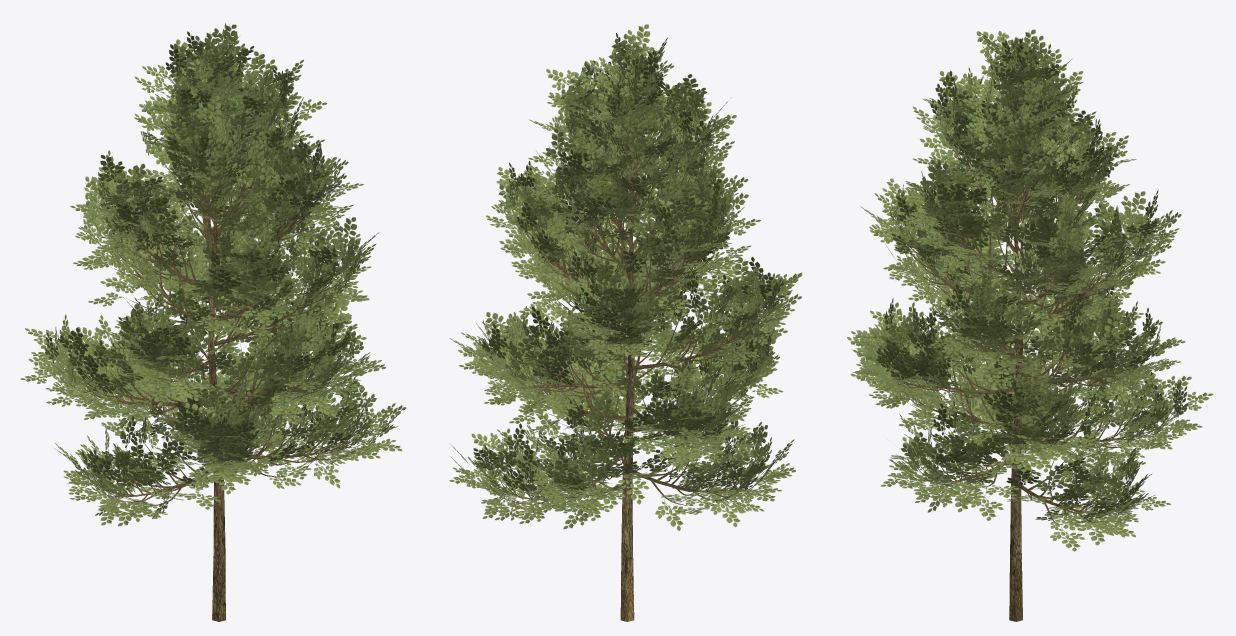
The model's file is tree2.glb.
3 renders of one model, left to right at view 1: azimuth 30°, elevation 25°; view 2: azimuth 150°, elevation 25°; view 3: azimuth 270°, elevation 25°, orthographic. The views are drawn at different scales.
Parts seen in each view (by area): view 1: Low Poly Tree 1 Leaves, Low Poly Tree 1 Trunk; view 2: Low Poly Tree 1 Leaves, Low Poly Tree 1 Trunk; view 3: Low Poly Tree 1 Leaves, Low Poly Tree 1 Trunk.
Boxes of the visible parts, x1,y1,x2,y2 form: Low Poly Tree 1 Leaves: [20, 23, 406, 526]; Low Poly Tree 1 Trunk: [58, 66, 373, 621]; Low Poly Tree 1 Leaves: [449, 24, 802, 530]; Low Poly Tree 1 Trunk: [478, 63, 772, 621]; Low Poly Tree 1 Leaves: [847, 29, 1213, 551]; Low Poly Tree 1 Trunk: [886, 61, 1175, 621].
Bounding box in the file's own units: 11.53 × 19.89 × 11.52.
Materials: 2 (2 with a texture image).
